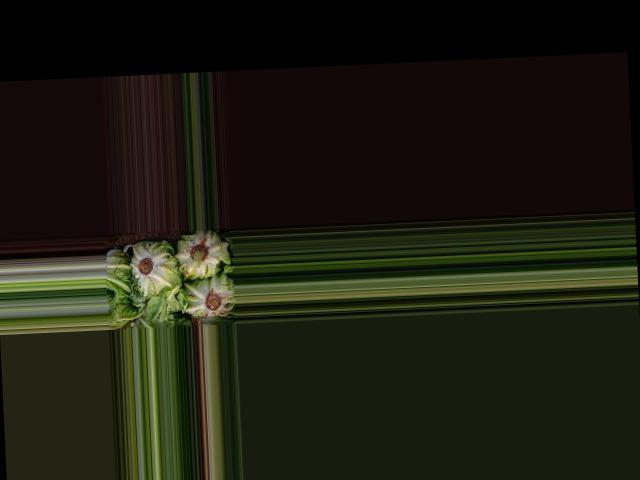lettuce: (183, 274, 235, 320)
